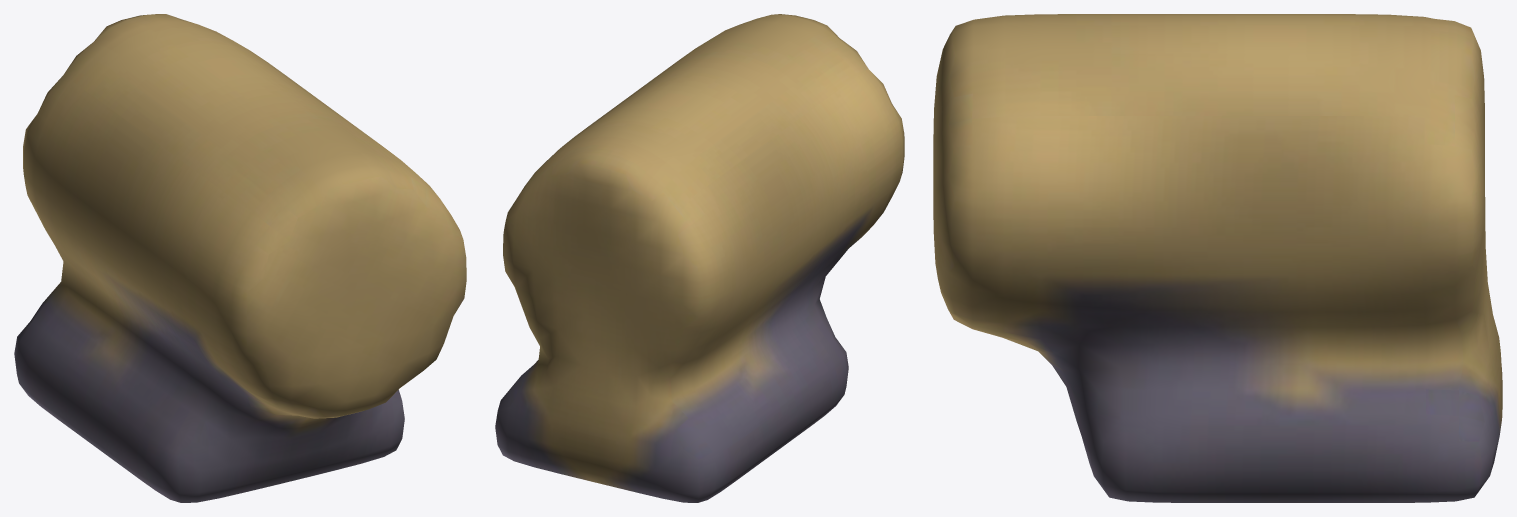
Rendered from beam_emitter.glb.
3 renders of one model, left to right at view 1: azimuth 30°, elevation 25°; view 2: azimuth 150°, elevation 25°; view 3: azimuth 270°, elevation 25°, orthographic. The views are drawn at different scales.
Visible parts, largest first — view 1: emitter; view 2: emitter; view 3: emitter.
Boxes of the visible parts, x1=… form: emitter: x1=14, y1=14, x2=466, y2=502; emitter: x1=495, y1=14, x2=904, y2=502; emitter: x1=933, y1=14, x2=1502, y2=502.
Bounding box in the file's own units: 0.6071 × 0.8412 × 1.03.
1 material, 1 textured.
